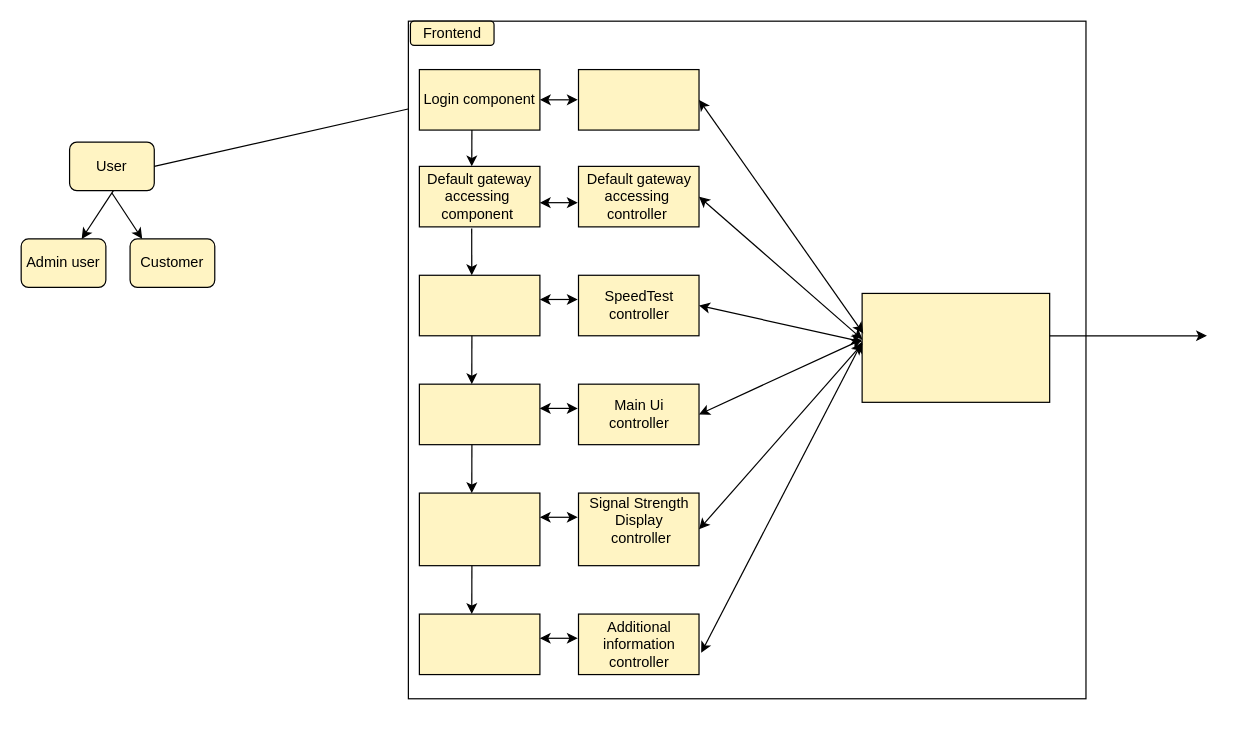
The diagram is 1239 pixels wide and 756 high, and some of its shapes have lost their labels. The centre of each missing label's shape, as x and y in pixels:
"Additional information component" belongs at [479,644].
"FrontEnd Controller" belongs at [955,347].
"Login controllert" belongs at [638,99].
"Main Ui component" belongs at [479,414].
"Signal Strength Display component 1 and 2" belongs at [479,529].
"SpeedTest component" belongs at [479,305].
